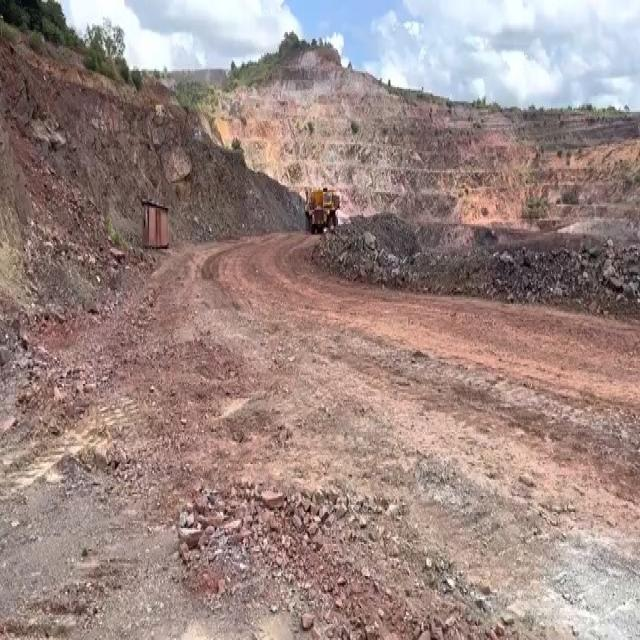dump_truck: (303, 190, 338, 231)
